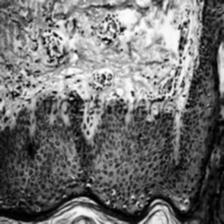Non-Cancerous Skin Condition: (0, 0, 222, 224)
